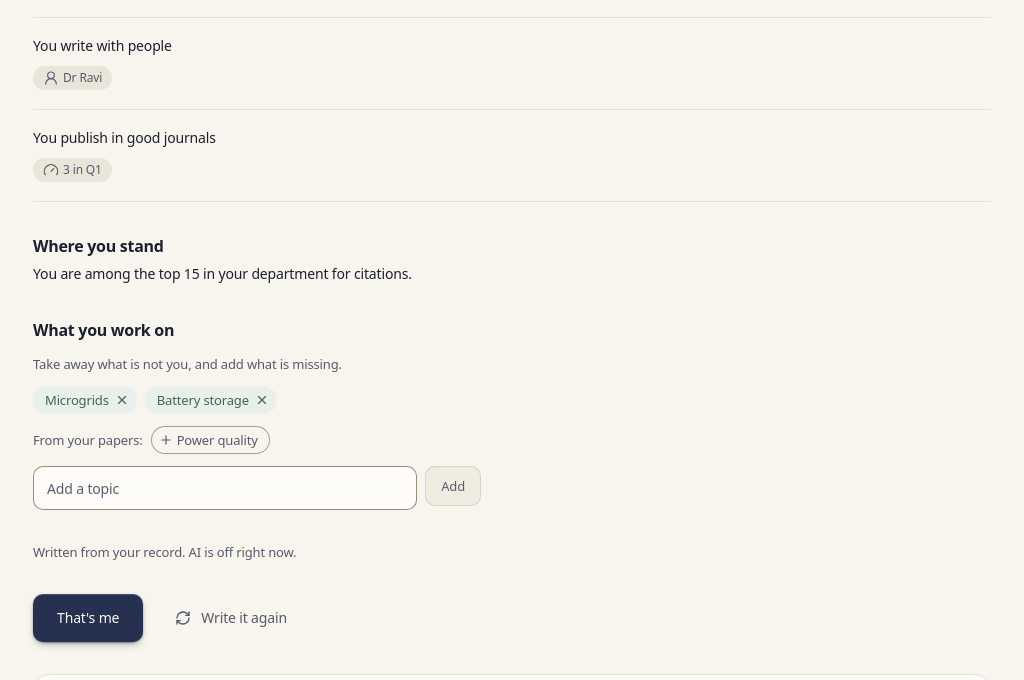
Scenario: Research compass › says quietly when it was written from the record, and still walks on
This screenshot has width=1024, height=680.
(page scrolled)
Check: the text "Written from your record. AI is off right now." is shown, box [33, 543, 296, 561]
Click the button "That's me" at (88,618), box [33, 594, 143, 642]
(page scrolled)
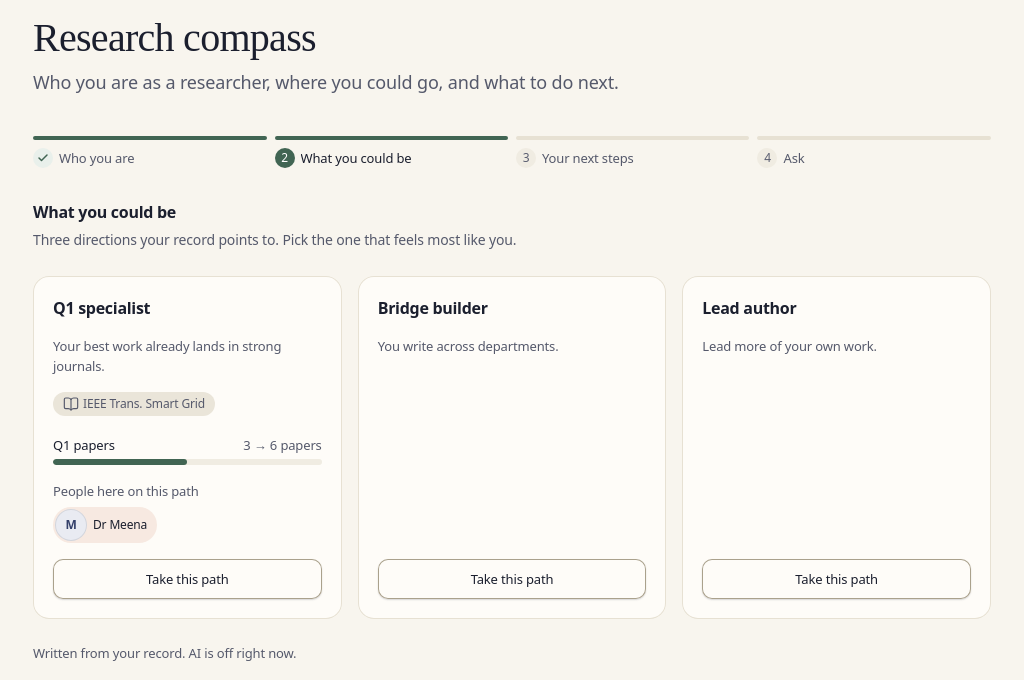
Check: the text "Written from your record. AI is off right now." is shown, box [33, 644, 296, 662]
Check: the heading "Q1 specialist" is shown, box [53, 297, 150, 319]
Click the button "Take this path" below "Q1 specialist" at (187,579), box [53, 559, 322, 599]
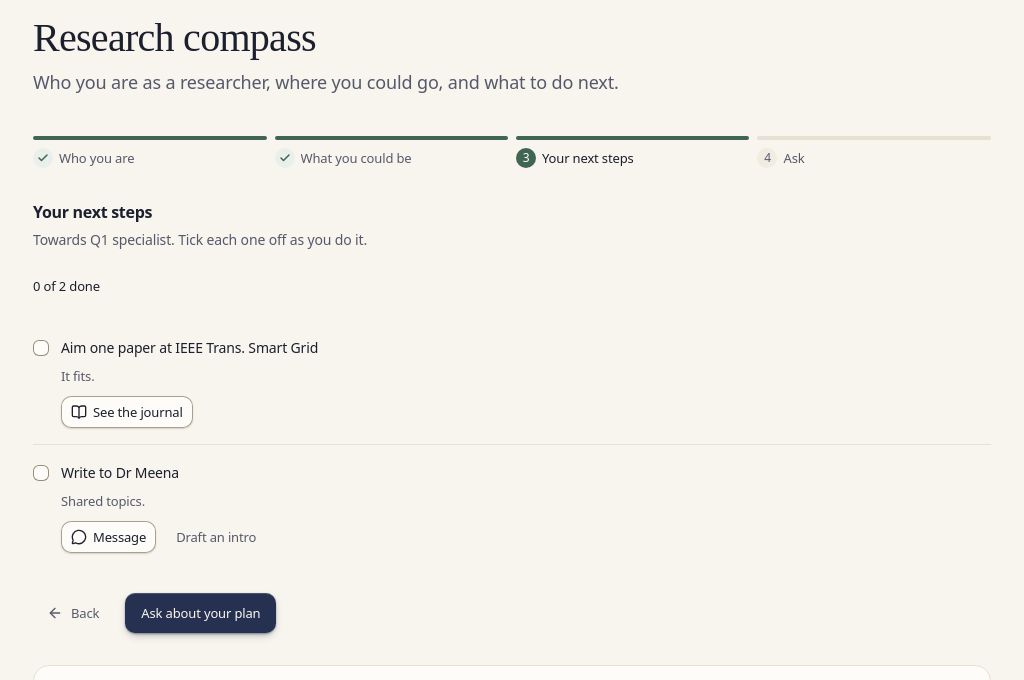
Check: the text "0 of 2 done" is shown, box [33, 277, 100, 295]
